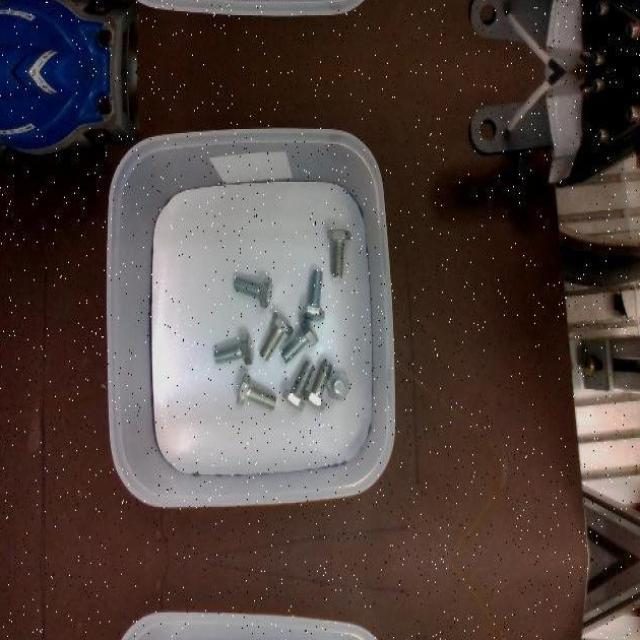screw: (260, 311, 294, 361), (282, 360, 315, 411), (281, 319, 320, 362), (304, 360, 332, 410), (237, 374, 276, 409), (213, 332, 254, 365), (234, 275, 272, 308), (302, 269, 326, 320), (328, 230, 353, 278), (327, 370, 351, 400)
